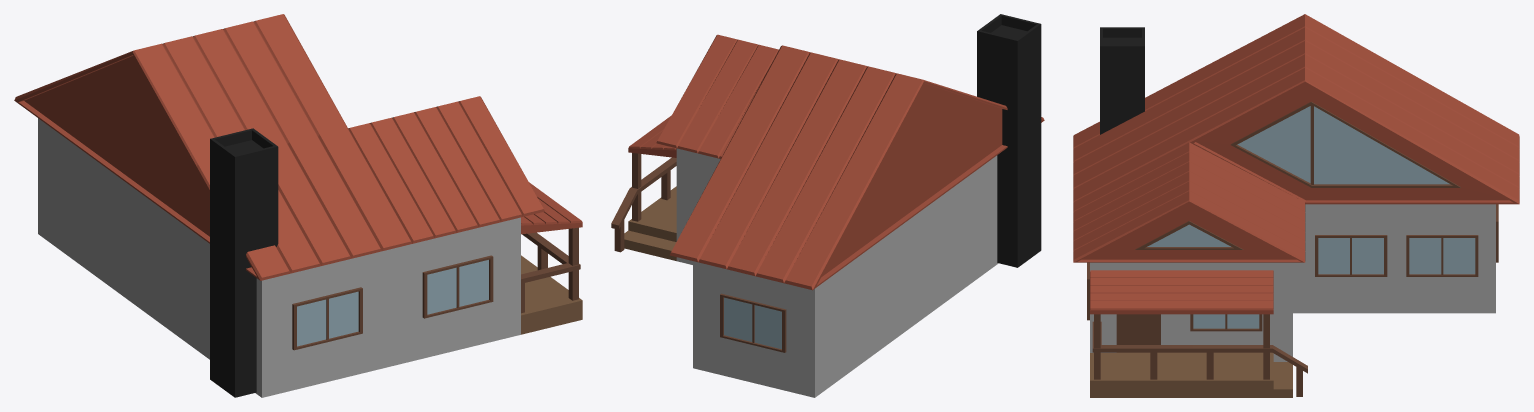
File: house02.glb
3 renders of one model, left to right at view 1: azimuth 30°, elevation 25°; view 2: azimuth 150°, elevation 25°; view 3: azimuth 270°, elevation 25°, orthographic. The views are drawn at different scales.
Visible parts, largest first — view 1: house.003_106, house.001_105, house.002_107; view 2: house.003_106, house.001_105, house.002_107; view 3: house.003_106, house.001_105, house.002_107.
Boxes of the visible parts, x1,y1,x2,y2 form: house.003_106: (14,14,582,280); house.001_105: (38,118,582,397); house.002_107: (292,255,493,350); house.003_106: (628,34,1044,290); house.001_105: (611,14,1041,397); house.002_107: (720,293,786,352); house.003_106: (1073,14,1519,314); house.001_105: (1090,27,1495,397); house.002_107: (1087,204,1498,331).
Size of the model in its own units: 6.35 by 4.66 by 7.91.
1 material, 1 textured.
